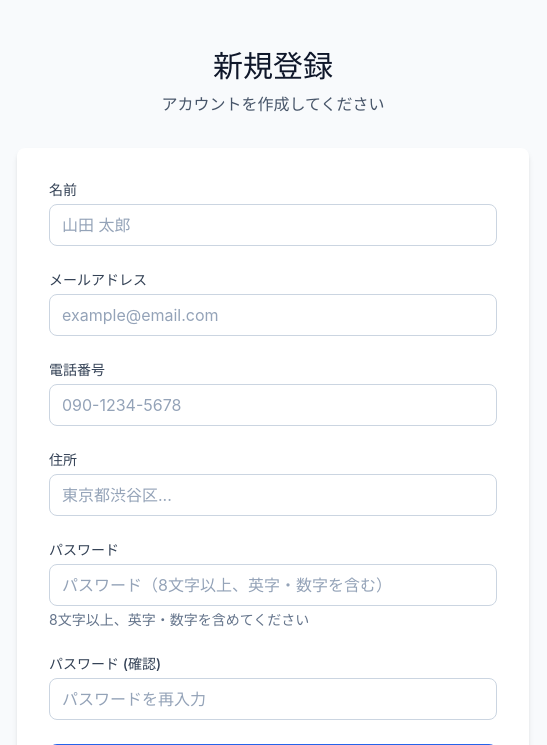
Scenario: RegisterPage › 登録失敗時にエラーメッセージが表示される
Step 1. Type "テストユーザー" into the field labelled "名前" → point(273, 225), box left=49, top=204, right=497, bottom=246
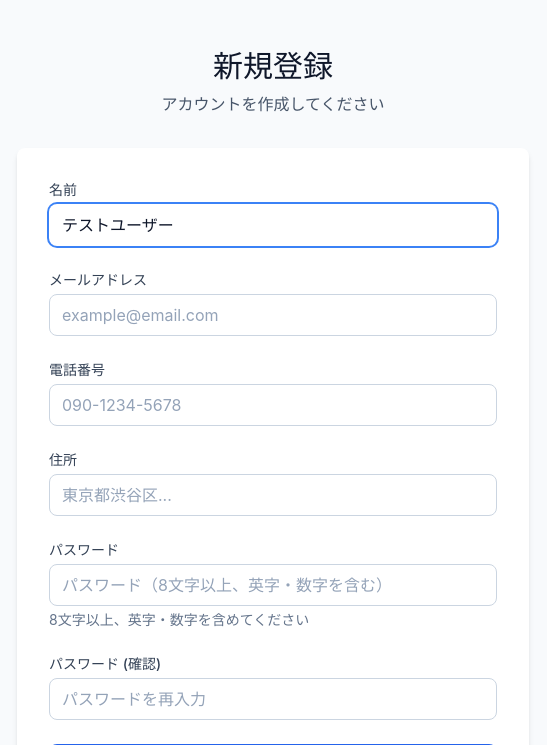
Step 2. Type "existing@example.com" into the field labelled "メールアドレス" → point(273, 315), box left=49, top=294, right=497, bottom=336
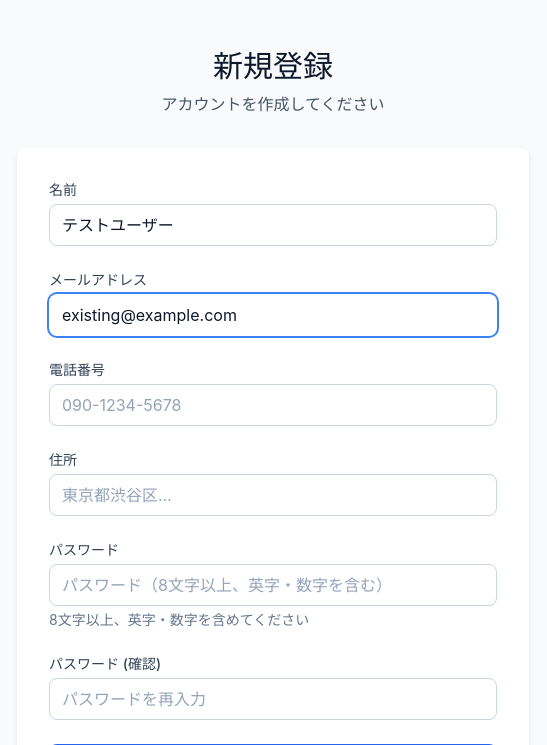
Step 3. Type "password123" into the password field labelled "パスワード" → point(273, 585), box left=49, top=564, right=497, bottom=606
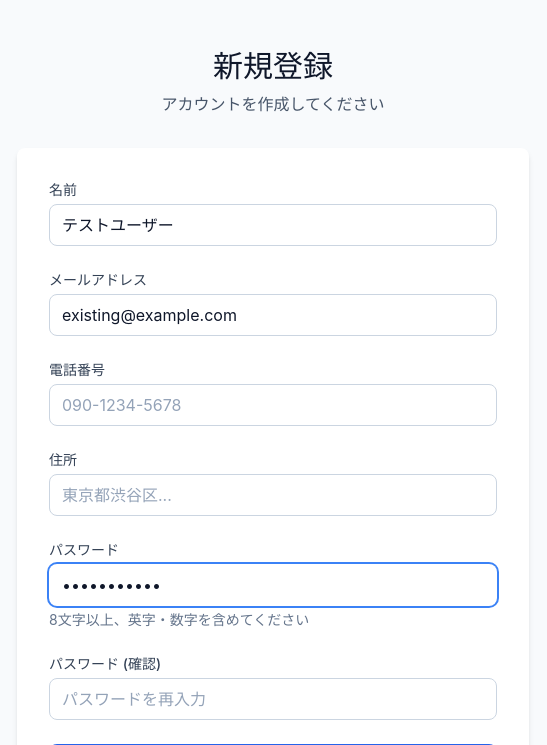
Step 4. Type "password123" into the password field labelled "パスワード (確認)" → point(273, 699), box left=49, top=678, right=497, bottom=720
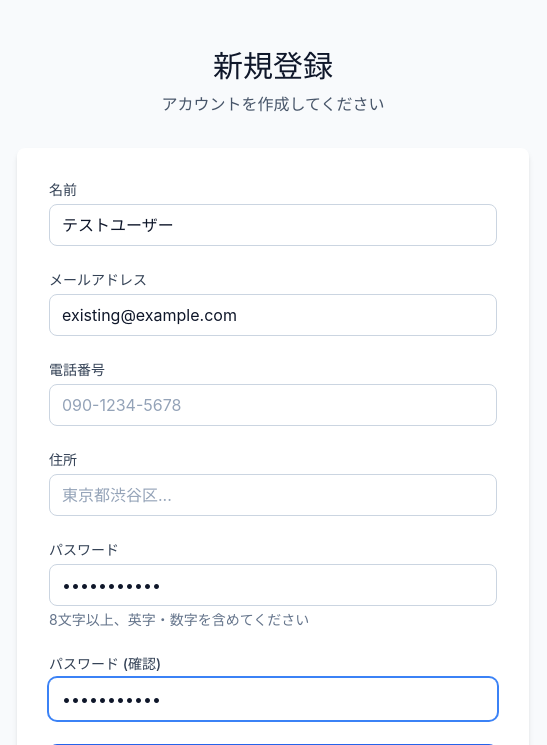
Step 5. Type "東京都渋谷区1-2-3" into the field labelled "住所" → point(273, 495), box left=49, top=474, right=497, bottom=516
(page scrolled)
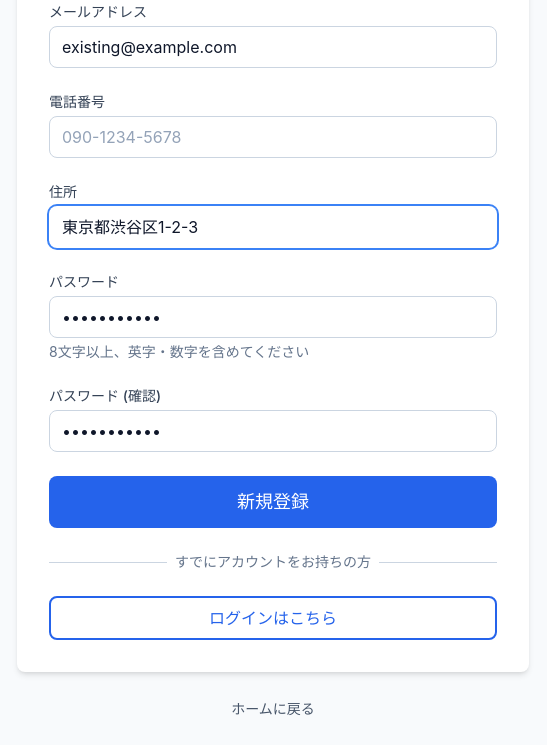
Step 6. Click the button "新規登録" → point(273, 502), box left=49, top=476, right=497, bottom=528
(page scrolled)
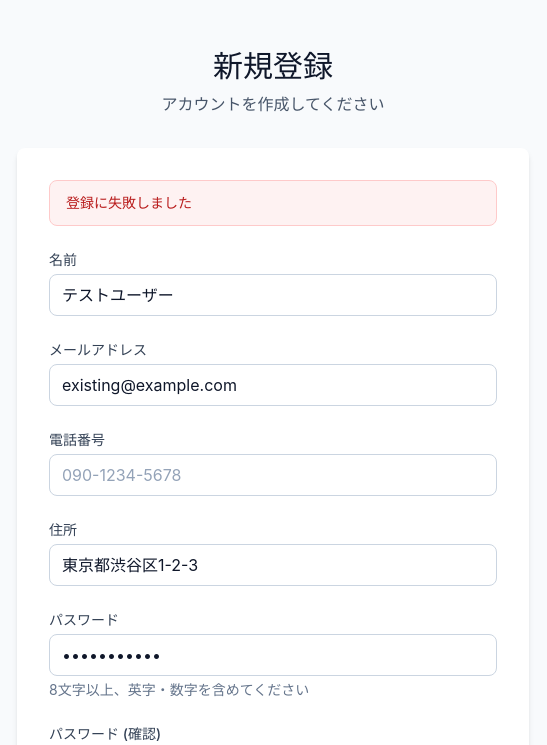
expect the text "登録に失敗しました" is shown: met, box left=49, top=180, right=497, bottom=226
